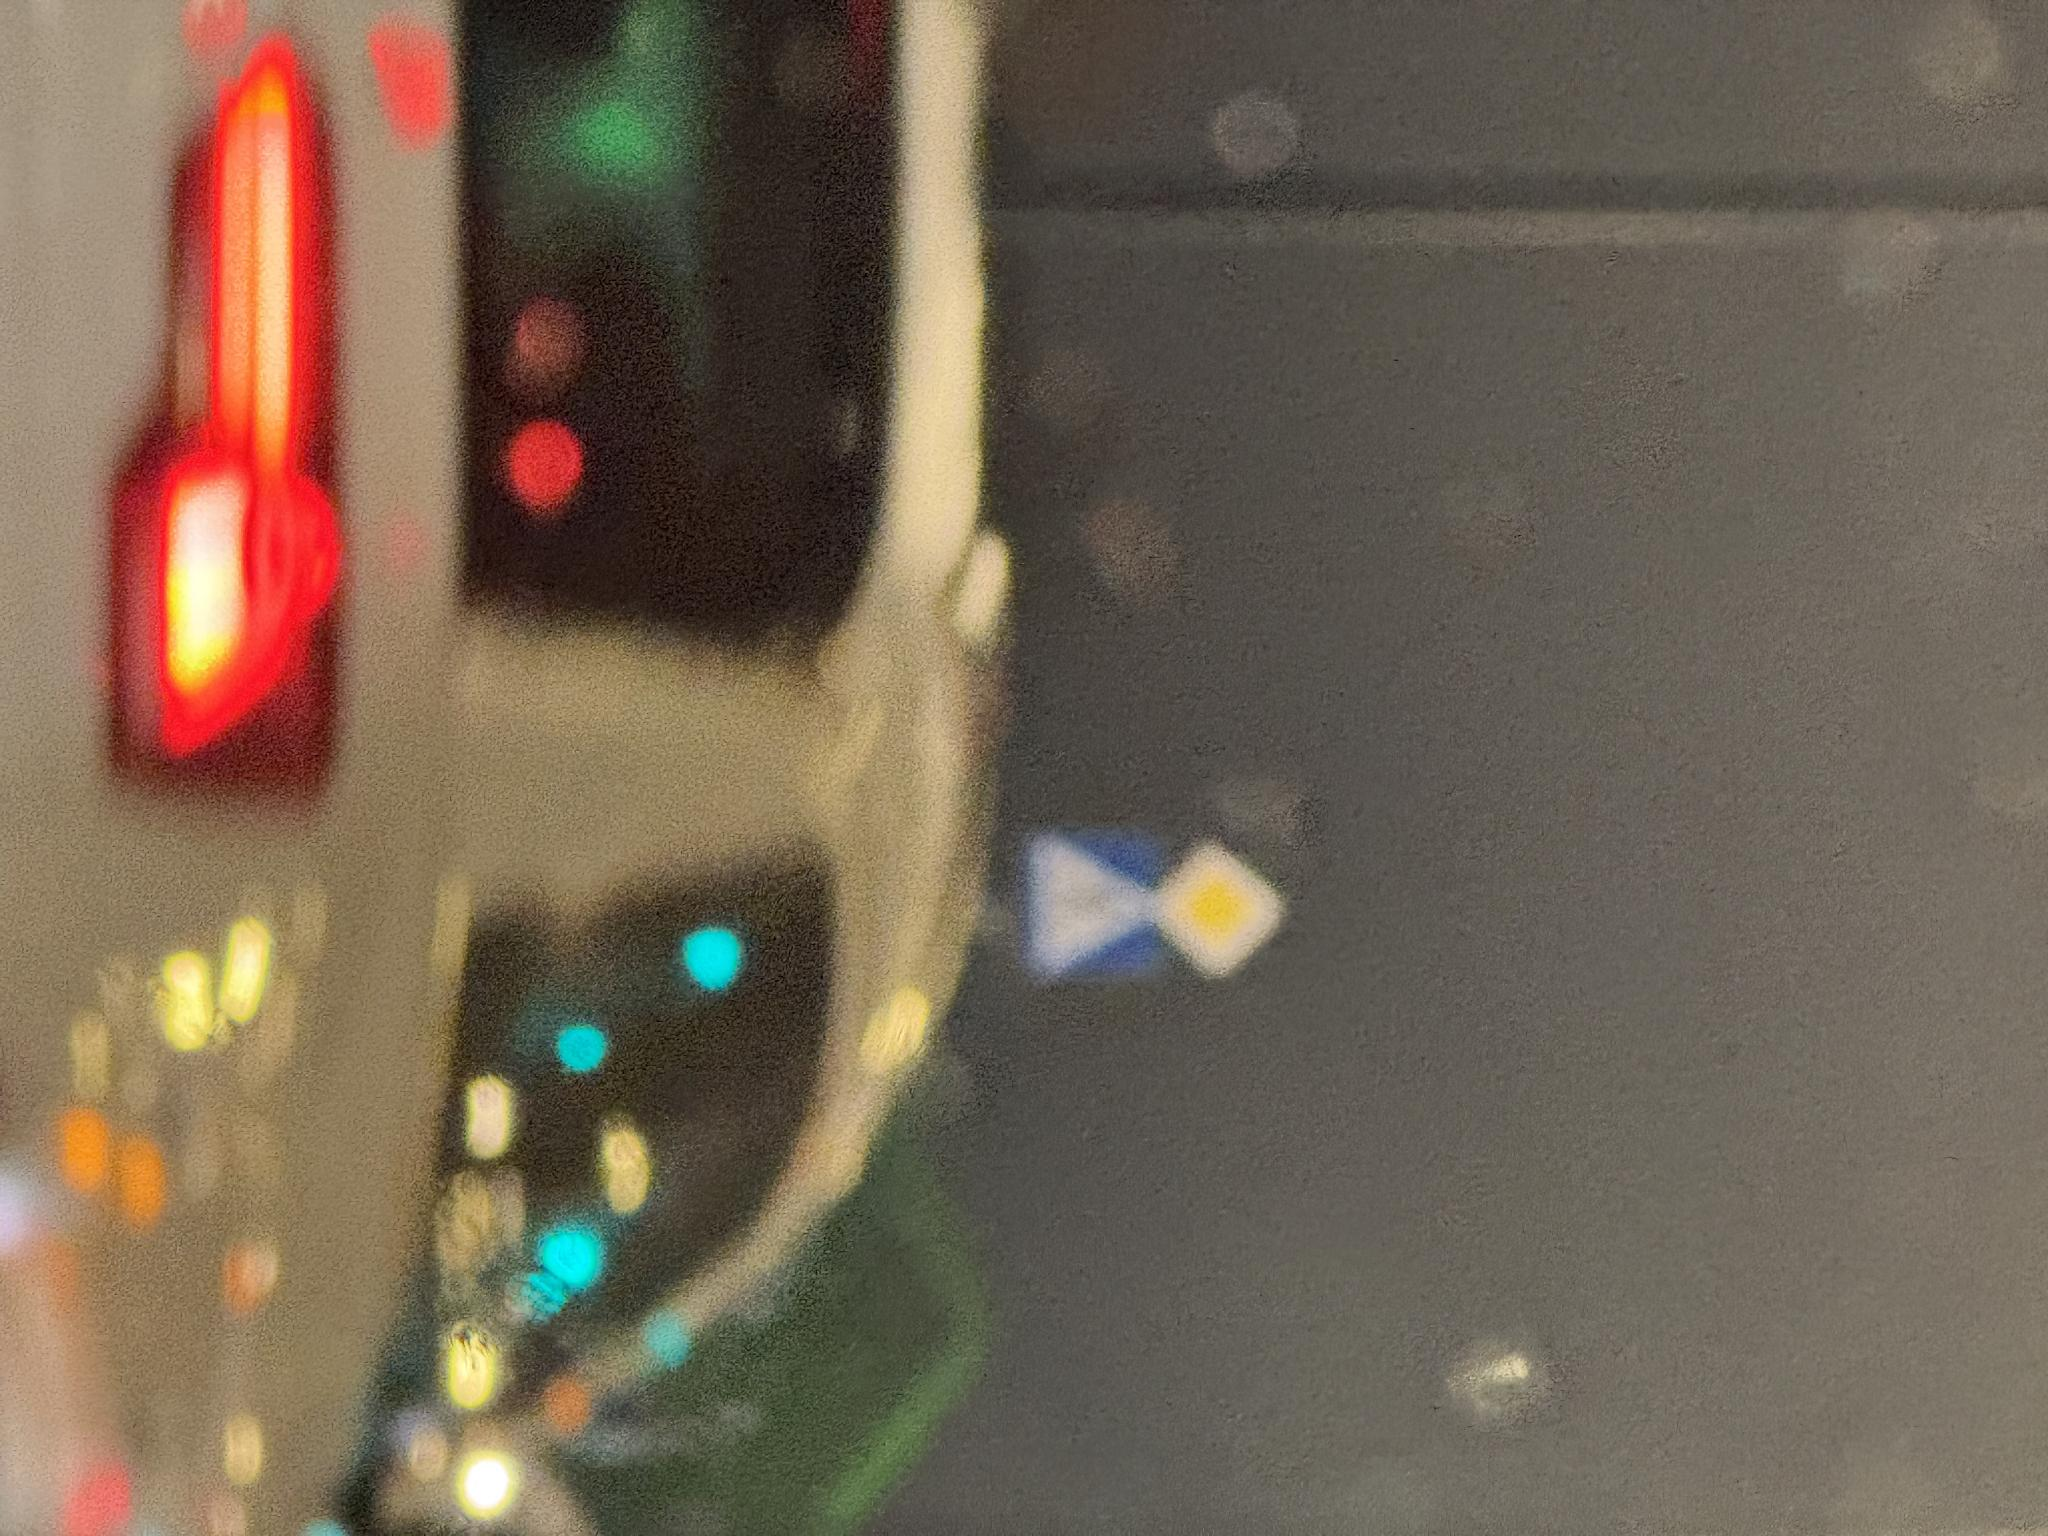information: (1332, 889, 1493, 1025), (1347, 758, 1493, 895)
